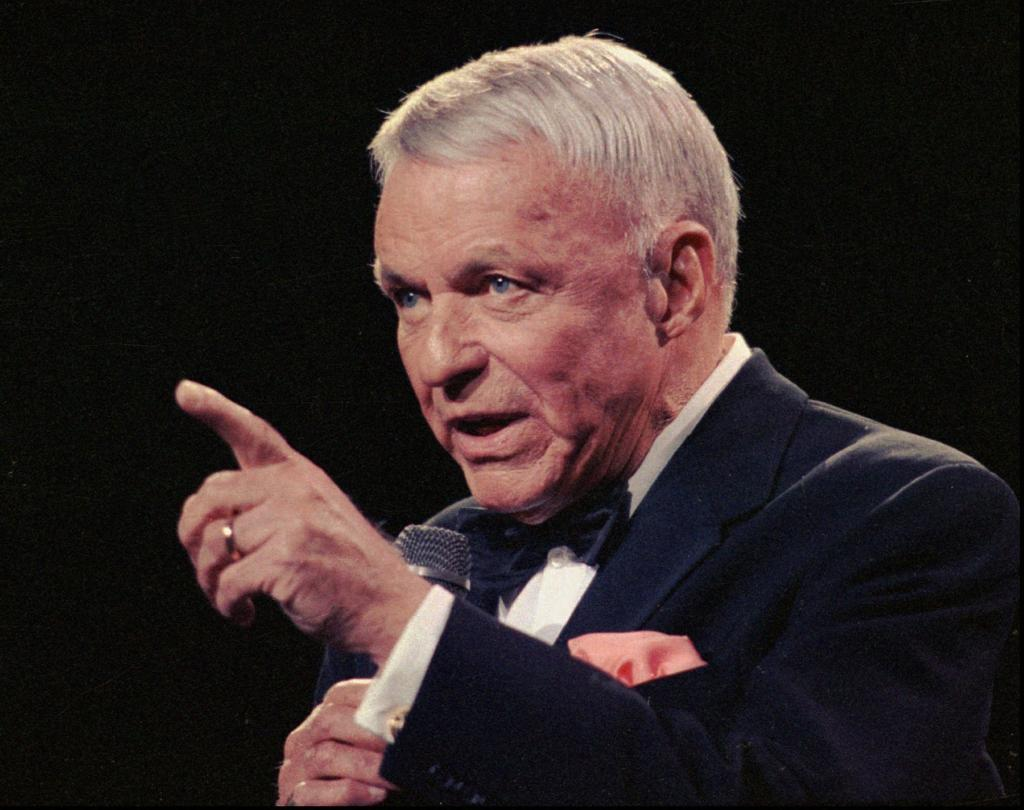face: (385, 165, 615, 505)
